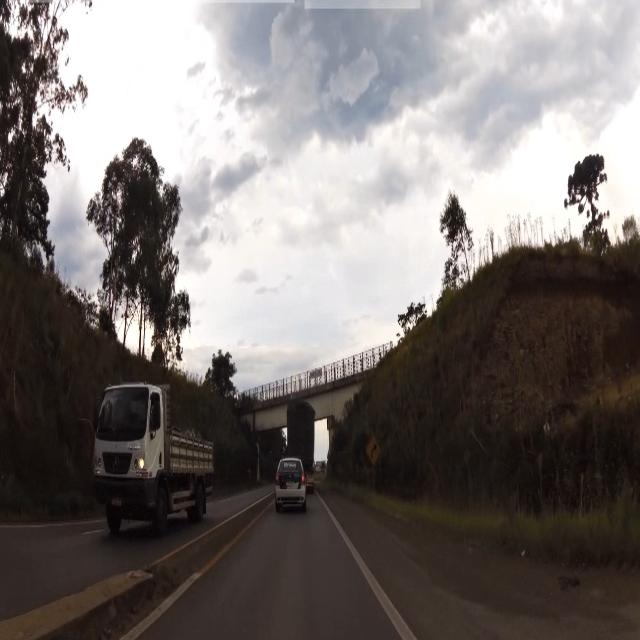A-2b: (368, 433, 380, 464)
